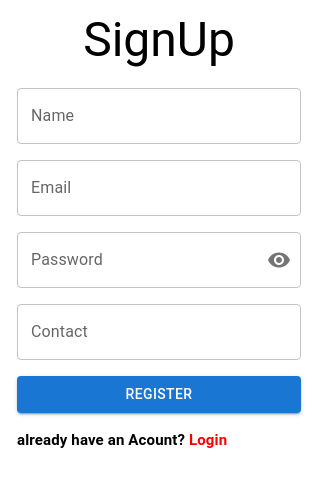
Register Page unit Tests › Testing form  data validates  and display Success message to user
Type "sriram" into the field with test id "name-input" at (159, 116), box [17,88,301,144]
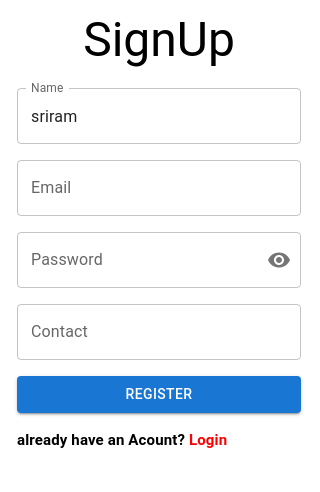
Type "sriram@gmail.com" into the field with test id "email-input" at (159, 188), box [17,160,301,216]
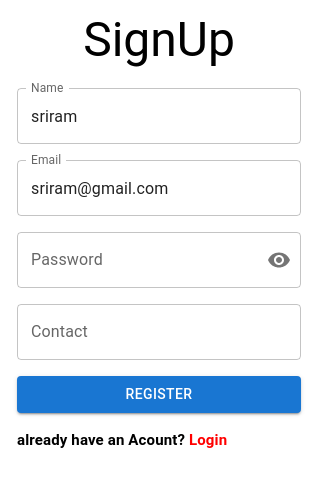
Type "9123564870" into the field with test id "contact-input" at (159, 332), box [17,304,301,360]
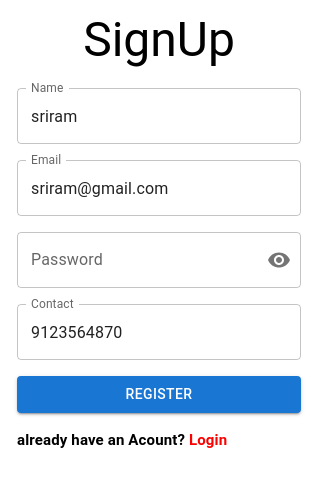
Type "Sriram123@" into the password field with test id "password-input" at (134, 260), box [17,232,251,288]
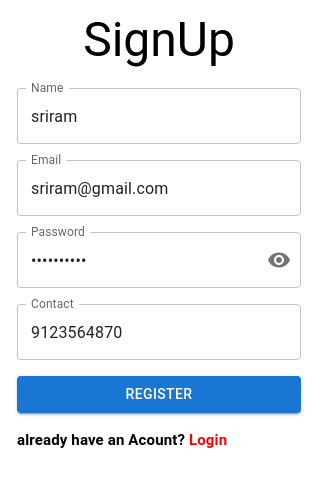
Click the button "Register" at (159, 394), box [17,376,301,412]
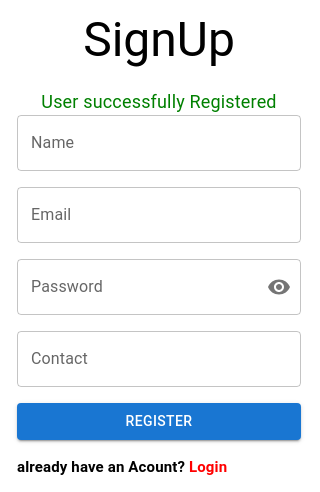
Now the text "User successfully Registered" is shown, box [41,88,277,115]
